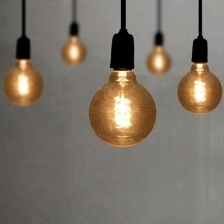light_bulb: (84, 59, 158, 149), (1, 48, 48, 108), (175, 58, 223, 116), (60, 29, 90, 67), (145, 38, 173, 76)
